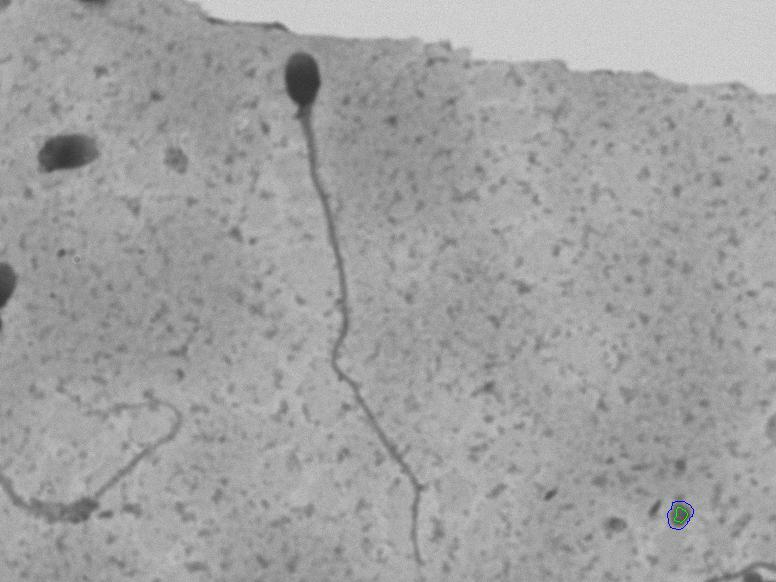Normal: (229, 40, 446, 574)
